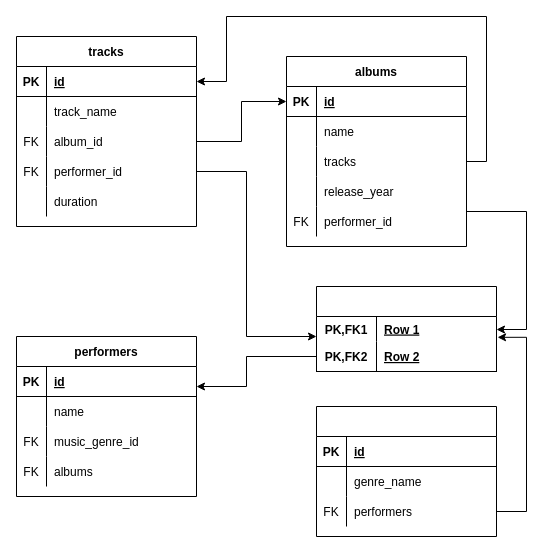
Some shapes in this 543 by 553 pixel diagram are drawn without their labels. Here are the shapes that lost their labels. From the top down, the box of each, then its label:
(316, 286, 496, 372): Table
(316, 406, 496, 536): music genres
